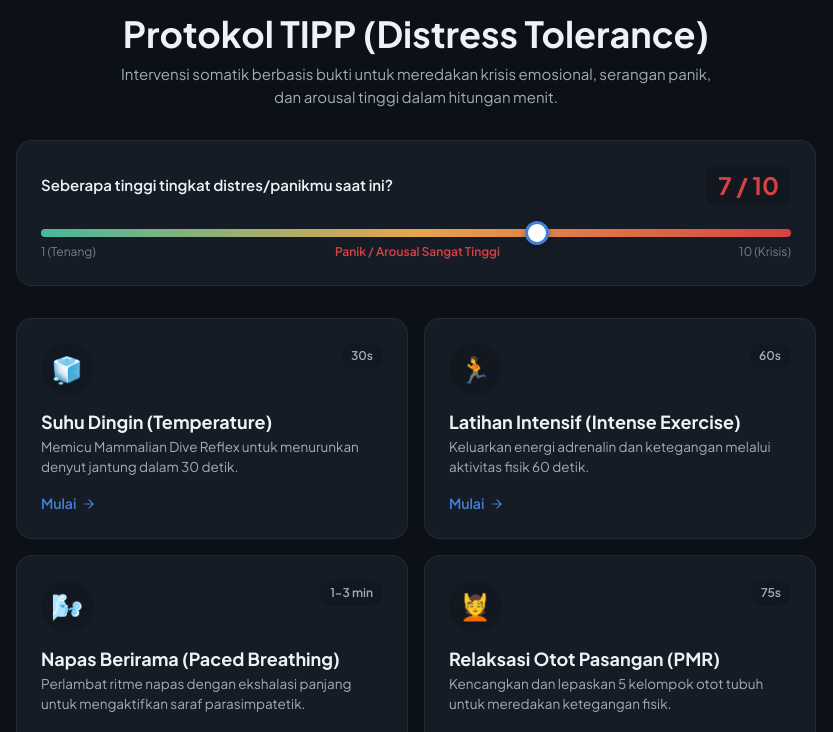
Test: TippCrisisHub Component › adjusts pre-distress slider value
Set the slider named "Skala Distres Sebelum Latihan" to "9" at (701, 233), box top-left (41, 229), bottom-right (791, 237)
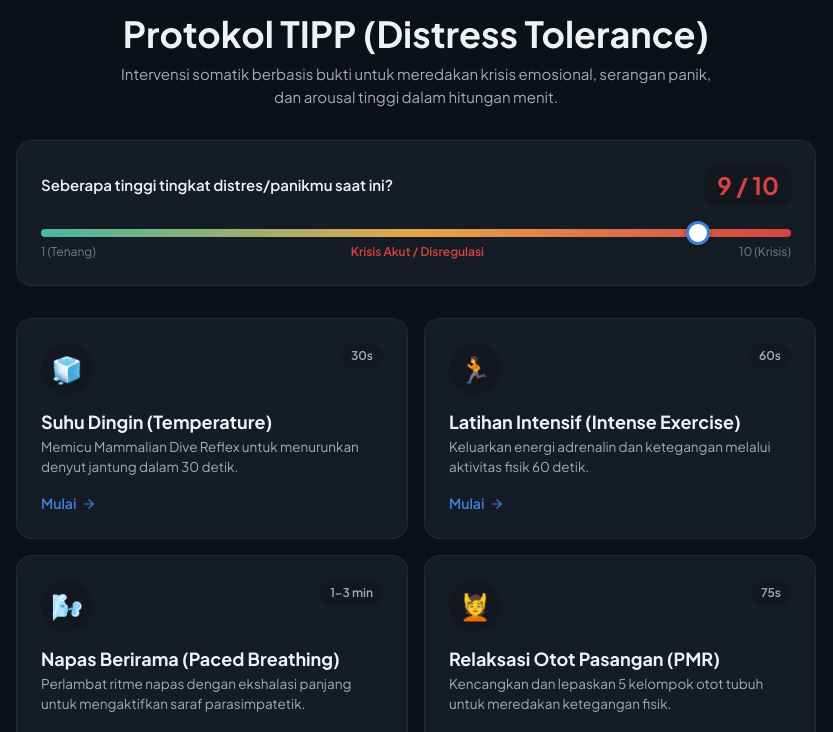
Now the text "9 / 10" is shown, box top-left (705, 165), bottom-right (791, 205)
